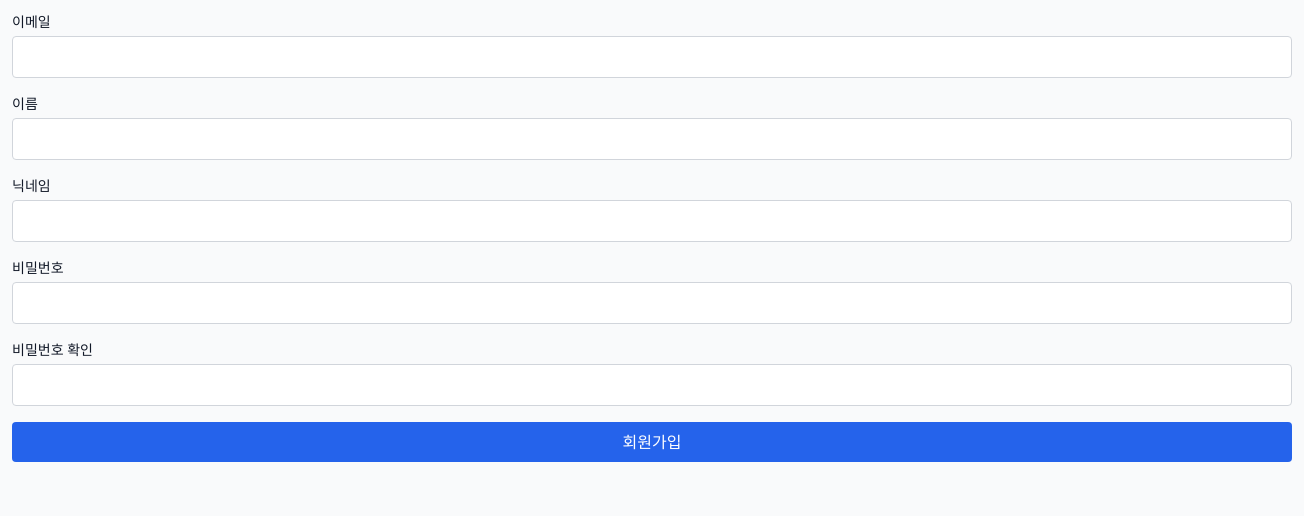
Test: SignupForm › 비밀번호 8자 미만이면 검증 오류
The image size is (1304, 516).
Step 1. Type "new@learnkk.local" into the field with test id "signup-email" → {"x": 652, "y": 57}, box [12, 36, 1292, 78]
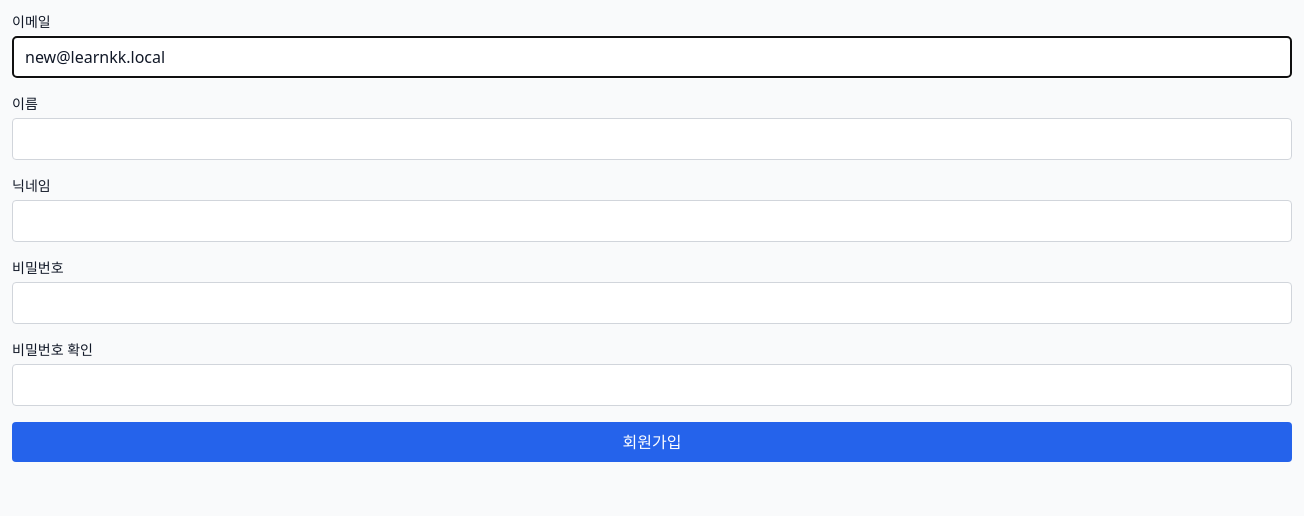
Step 2. Type "홍길동" into the field with test id "signup-name" → {"x": 652, "y": 139}, box [12, 118, 1292, 160]
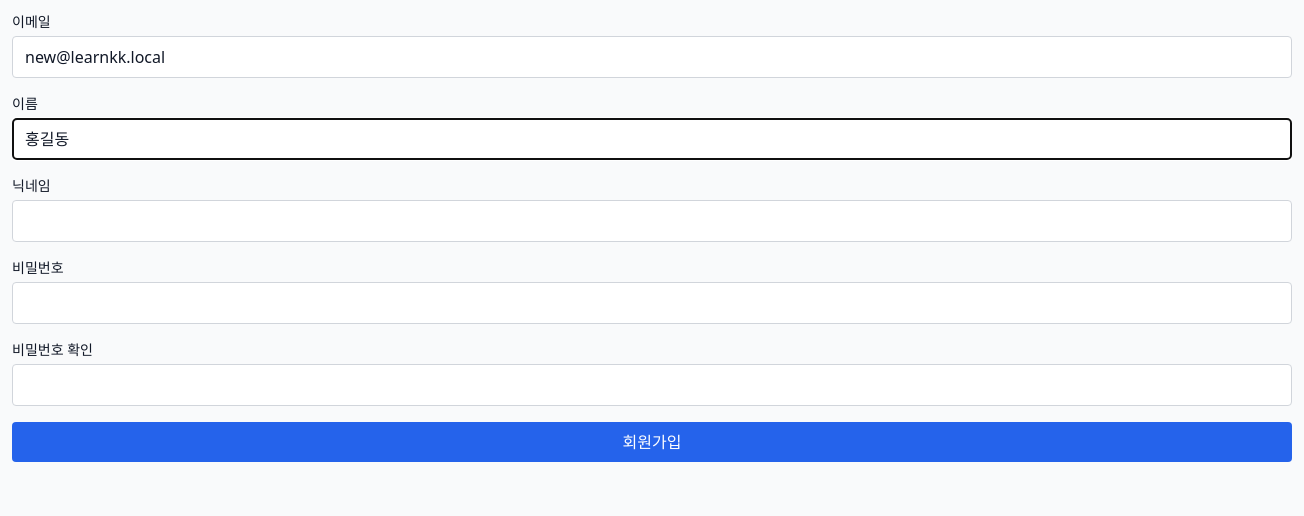
Step 3. Type "gil" into the field with test id "signup-nickname" → {"x": 652, "y": 221}, box [12, 200, 1292, 242]
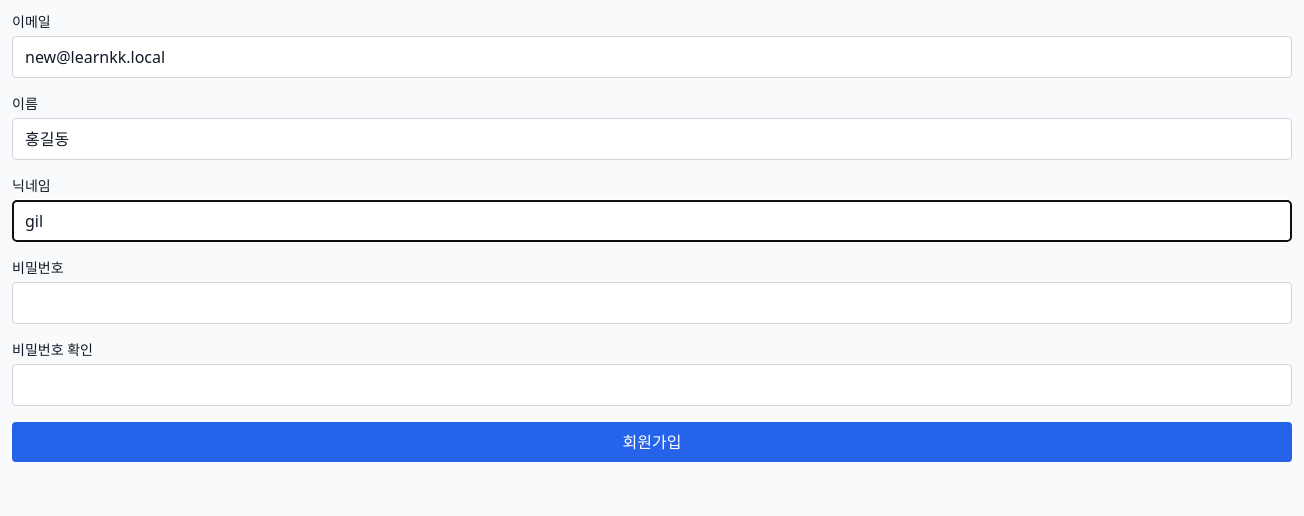
Step 4. Type "short" into the password field with test id "signup-password" → {"x": 652, "y": 303}, box [12, 282, 1292, 324]
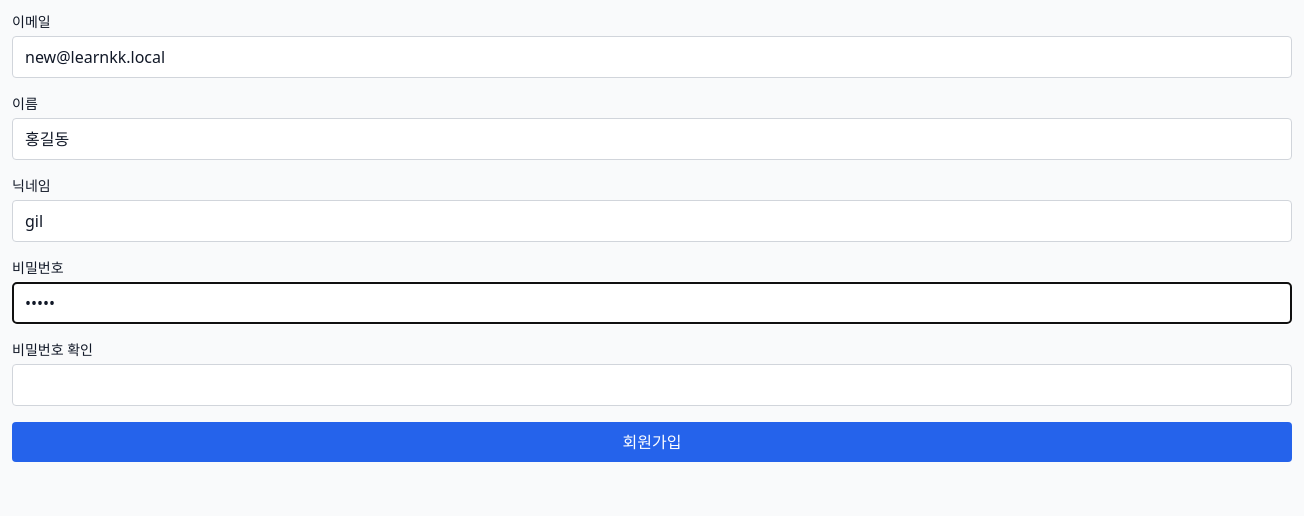
Step 5. Type "short" into the password field with test id "signup-password-confirm" → {"x": 652, "y": 385}, box [12, 364, 1292, 406]
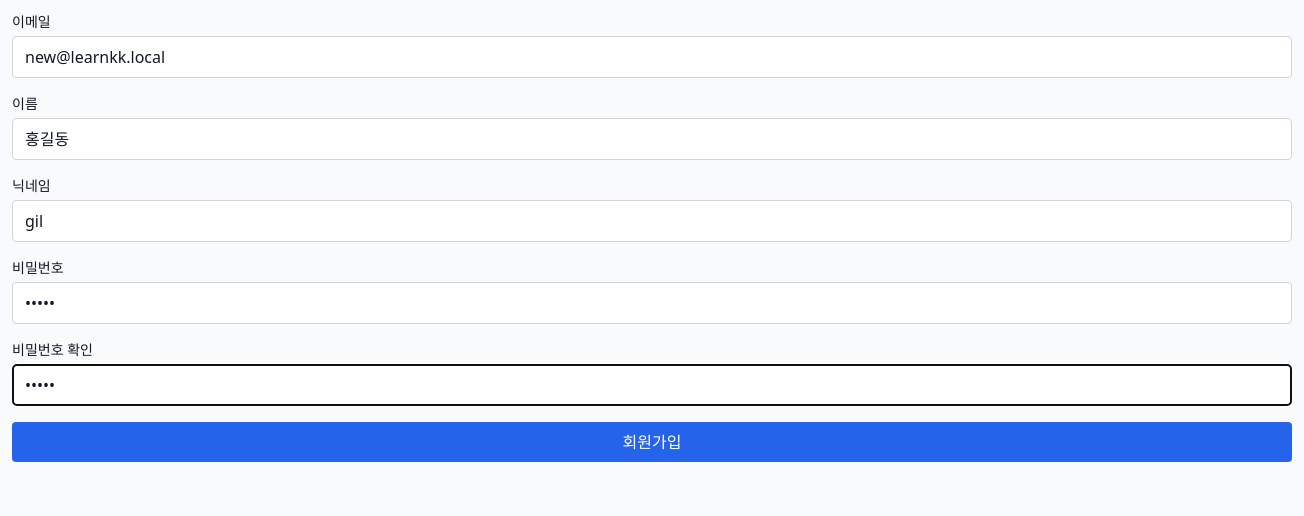
Step 6. Click the button with test id "signup-submit" → {"x": 652, "y": 442}, box [12, 422, 1292, 462]
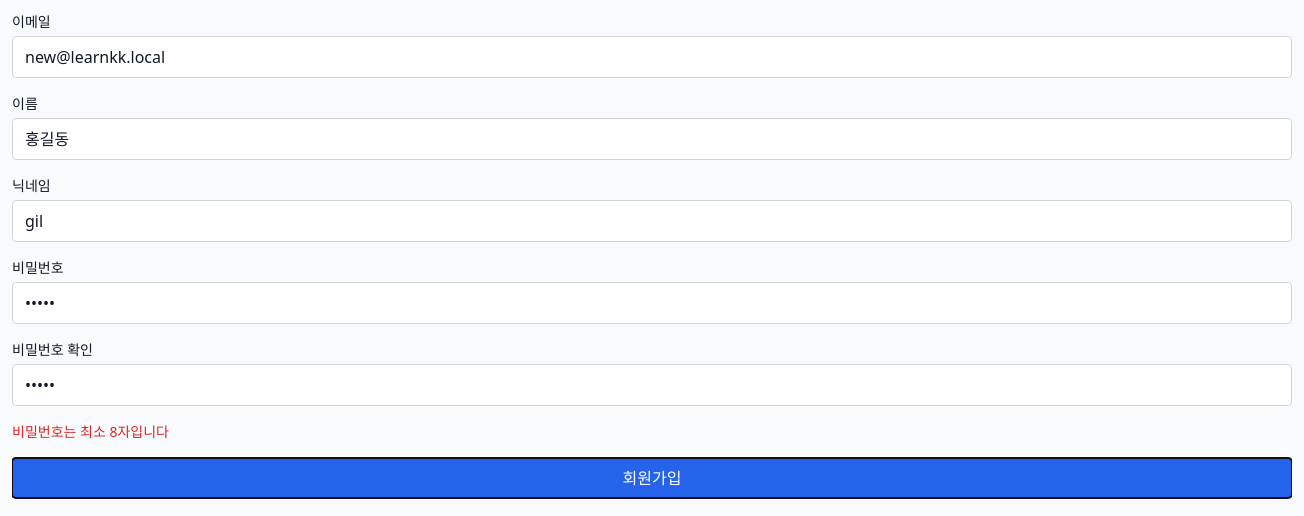
Now the message with test id "signup-error" shows "최소 8자", box [12, 422, 169, 441]
